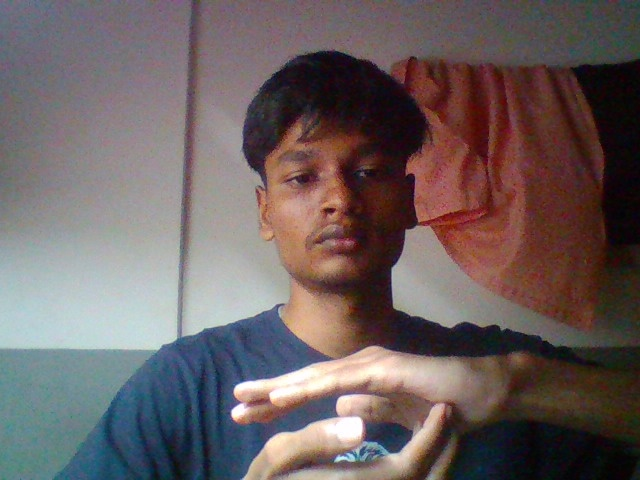J: (212, 329, 532, 480)
